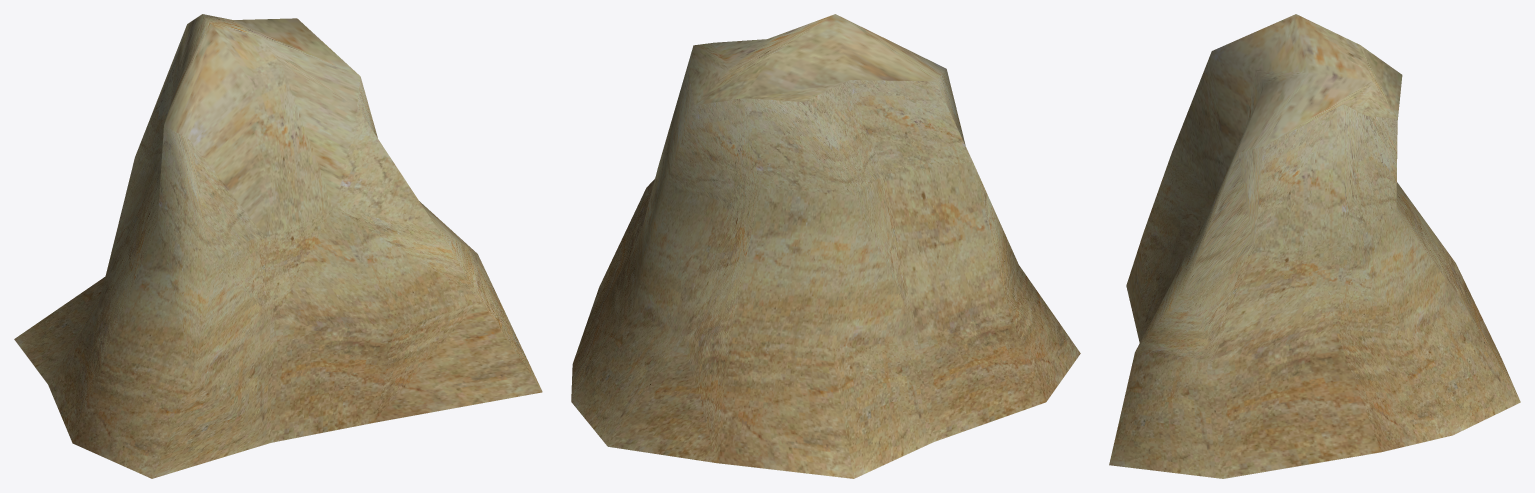
File: rock_beach_spike_l2.fbx
The picture shows the model from 3 angles, left to right: view 1: azimuth 30°, elevation 25°; view 2: azimuth 150°, elevation 25°; view 3: azimuth 270°, elevation 25°; orthographic projection. The views are drawn at different scales.
Visible parts, largest first — view 1: mesh_node; view 2: mesh_node; view 3: mesh_node.
Boxes of the visible parts, bbox=[...] form: mesh_node: bbox=[14, 14, 542, 478]; mesh_node: bbox=[571, 14, 1080, 478]; mesh_node: bbox=[1109, 14, 1520, 478].
Size of the model in its own units: 5.99 by 4.67 by 5.11.
Materials: 1 (1 with a texture image).
